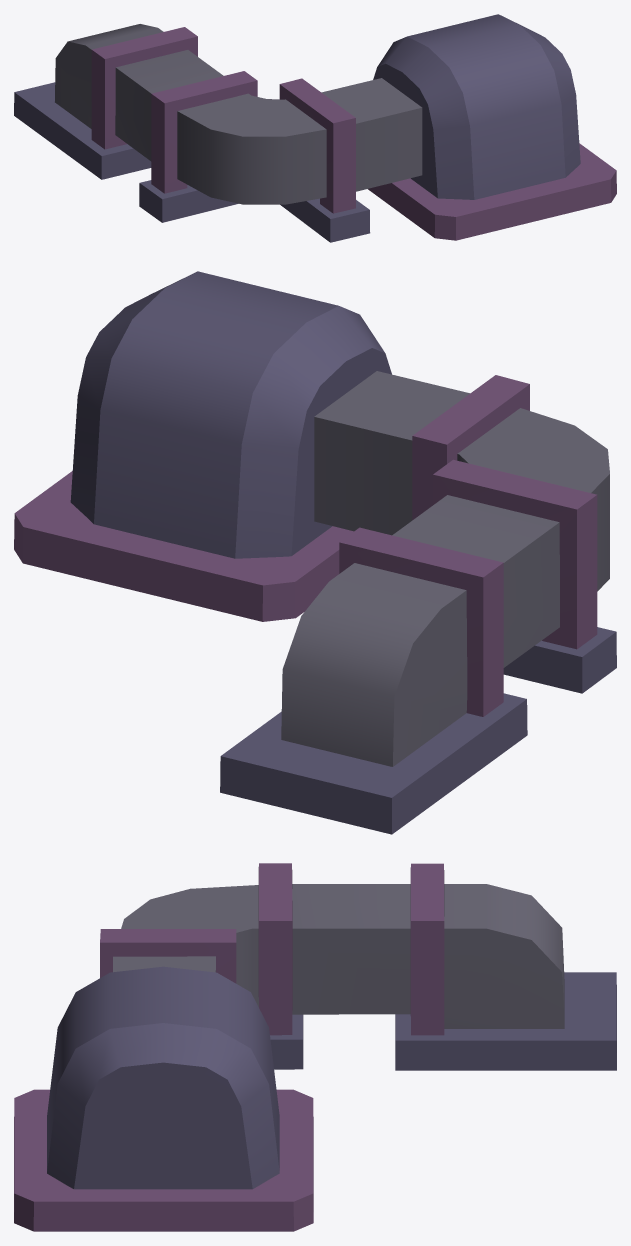
File: ventilation_02.fbx
3 views of the same model, one above another, from view 1: azimuth 30°, elevation 25°; view 2: azimuth 150°, elevation 25°; view 3: azimuth 270°, elevation 25° (orthographic). The views are drawn at different scales.
Parts seen in each view (by area): view 1: ventilation_02; view 2: ventilation_02; view 3: ventilation_02.
Part boxes in pixels (bbox=[...]): ventilation_02: bbox=[14, 14, 616, 242]; ventilation_02: bbox=[14, 271, 616, 834]; ventilation_02: bbox=[14, 863, 616, 1231].
Size of the model in its own units: 228 by 83.47 by 253.
